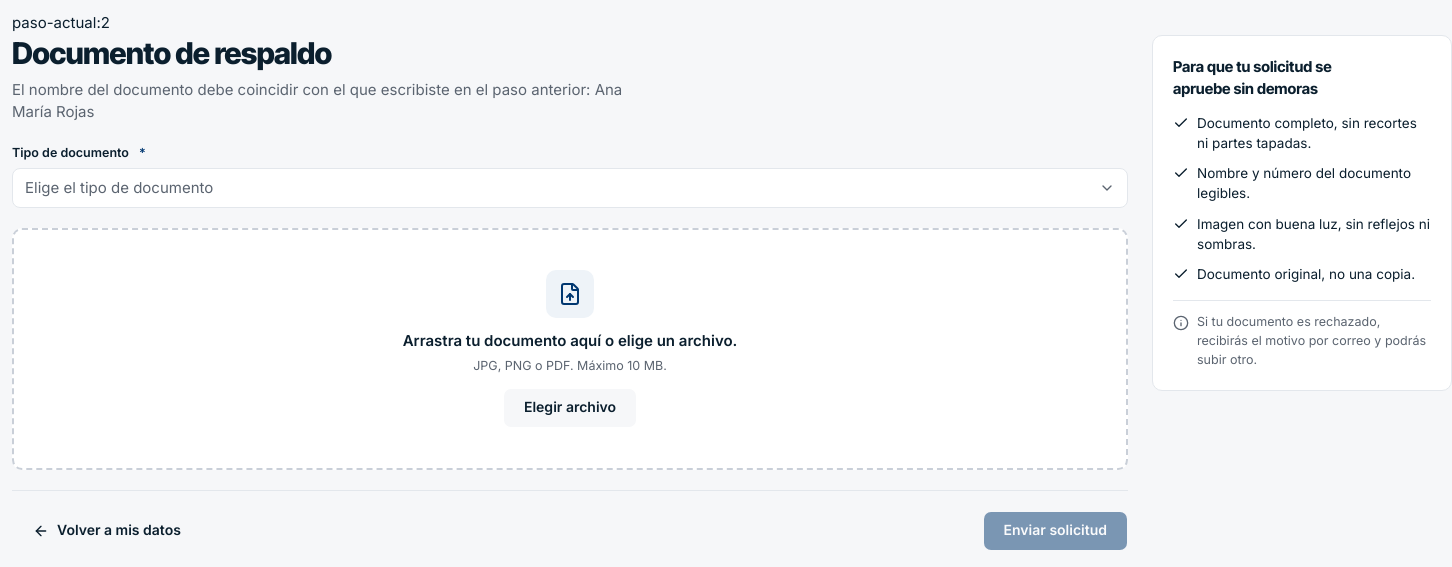
DocumentStep › el selector ofrece solo las dos opciones con sus nombres visibles
This screenshot has width=1452, height=567.
Click the dropdown labelled "Elige el tipo de documento ▼". click: click(119, 188)
box: [12, 168, 1128, 208]
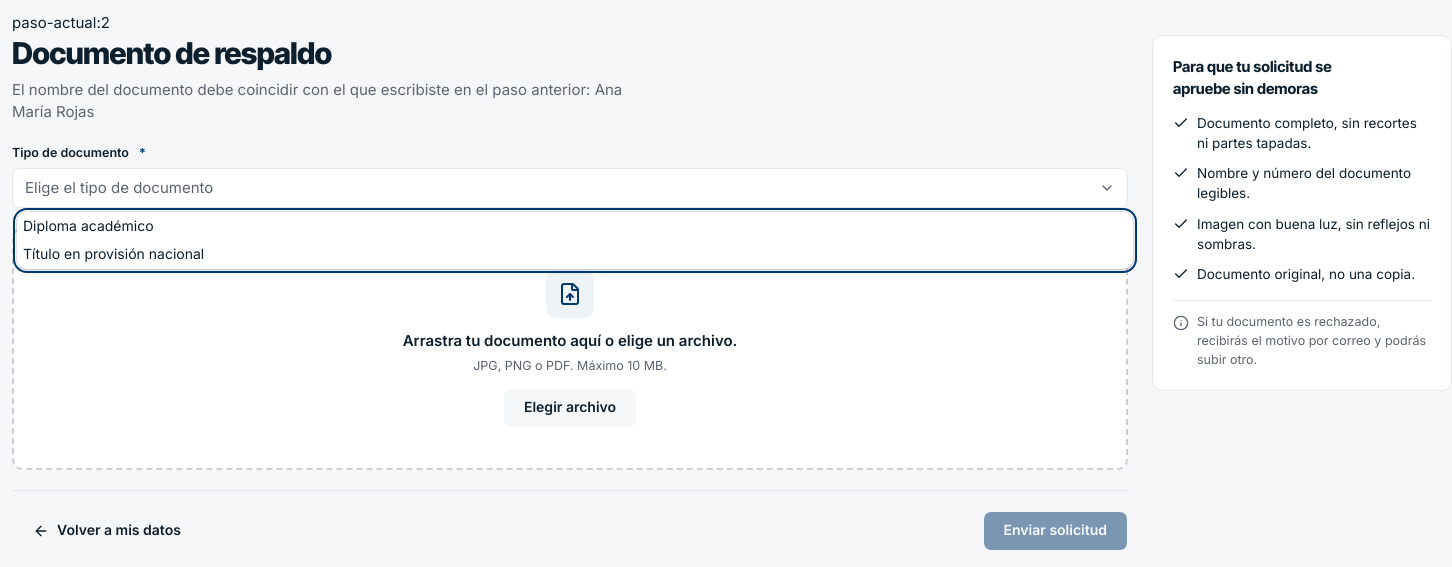
Expected: the options read "Diploma académico", "Título en provisión nacional", in this order, [23, 217, 154, 234]; [23, 245, 204, 262]
